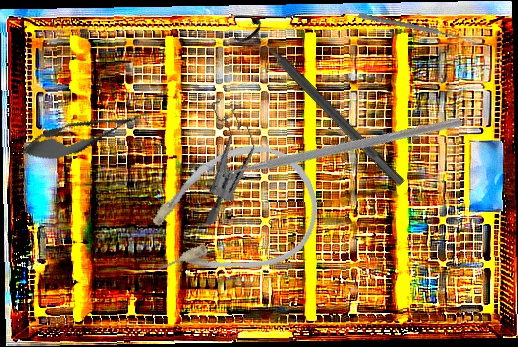Cannula: (127, 128, 333, 301)
Chopper: (200, 10, 464, 274)
Fixation Ring: (232, 14, 415, 197)
Micro Scissor: (15, 97, 156, 171)
Speculum: (170, 89, 276, 227)
Surgical Spoon: (357, 12, 476, 44)
